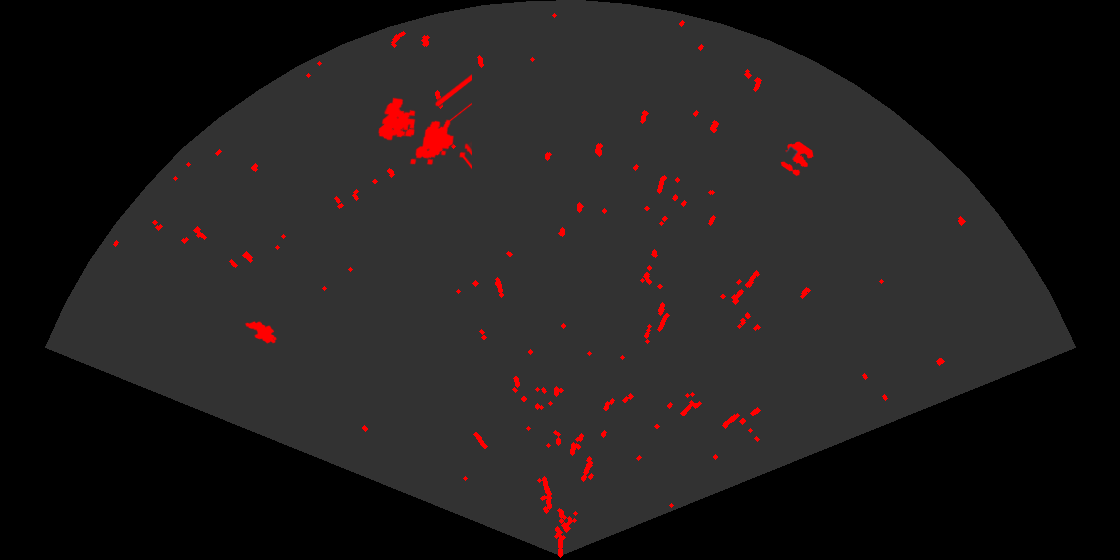AUV: (244, 320, 279, 345)
ball: (779, 140, 815, 178)
cage: (376, 73, 472, 171)
